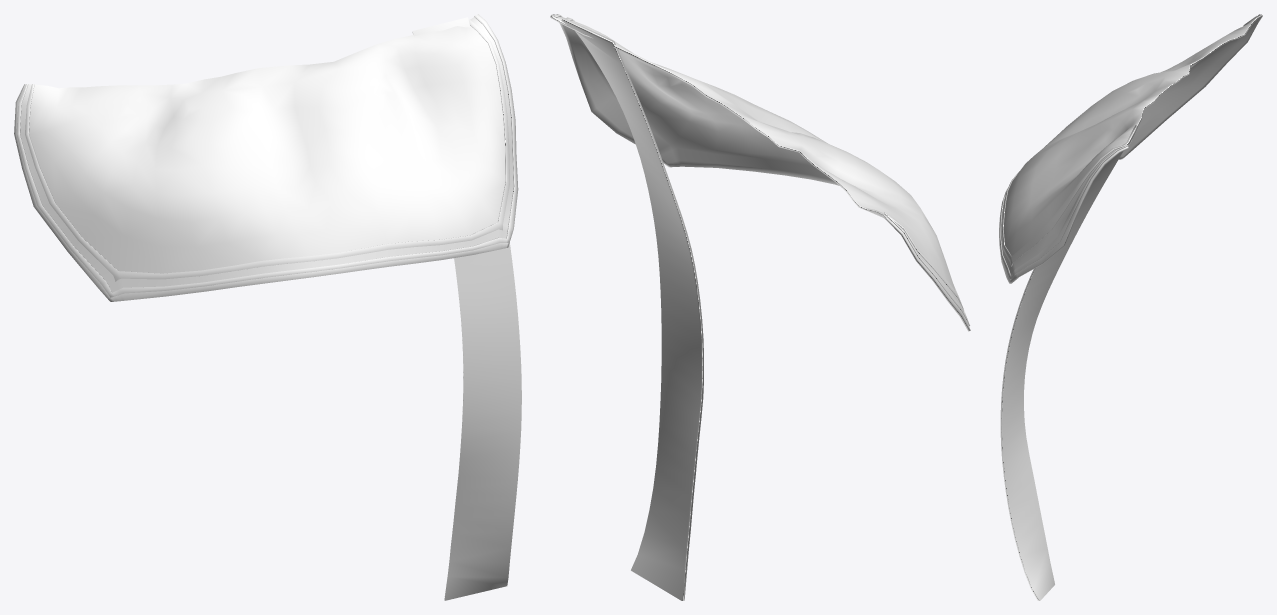
Rendered from Jac_Pocket_LEFT_V2.glb.
The picture shows the model from 3 angles, left to right: view 1: azimuth 30°, elevation 25°; view 2: azimuth 150°, elevation 25°; view 3: azimuth 270°, elevation 25°; orthographic projection. The views are drawn at different scales.
Visible parts, largest first — view 1: Jac_Pocket_LEFT_V2.003, Jac_Pocket_LEFT_V3.001, Jac_Rope_Pocket_LEFT_V2.003; view 2: Jac_Pocket_LEFT_V2.003, Jac_Pocket_LEFT_V3.001, Jac_Rope_Pocket_LEFT_V2.003; view 3: Jac_Pocket_LEFT_V2.003, Jac_Pocket_LEFT_V3.001, Jac_Rope_Pocket_LEFT_V2.003.
Boxes of the visible parts, x1=… form: Jac_Pocket_LEFT_V2.003: x1=14, y1=14, x2=518, y2=301; Jac_Pocket_LEFT_V3.001: x1=412, y1=17, x2=521, y2=600; Jac_Rope_Pocket_LEFT_V2.003: x1=16, y1=15, x2=516, y2=297; Jac_Pocket_LEFT_V2.003: x1=550, y1=14, x2=970, y2=331; Jac_Pocket_LEFT_V3.001: x1=561, y1=18, x2=703, y2=600; Jac_Rope_Pocket_LEFT_V2.003: x1=553, y1=14, x2=969, y2=326; Jac_Pocket_LEFT_V2.003: x1=999, y1=14, x2=1262, y2=283; Jac_Pocket_LEFT_V3.001: x1=1000, y1=125, x2=1137, y2=600; Jac_Rope_Pocket_LEFT_V2.003: x1=999, y1=14, x2=1260, y2=280.
Bounding box in the file's own units: 0.2008 × 0.2523 × 0.1281.
3 materials, 3 textured.
